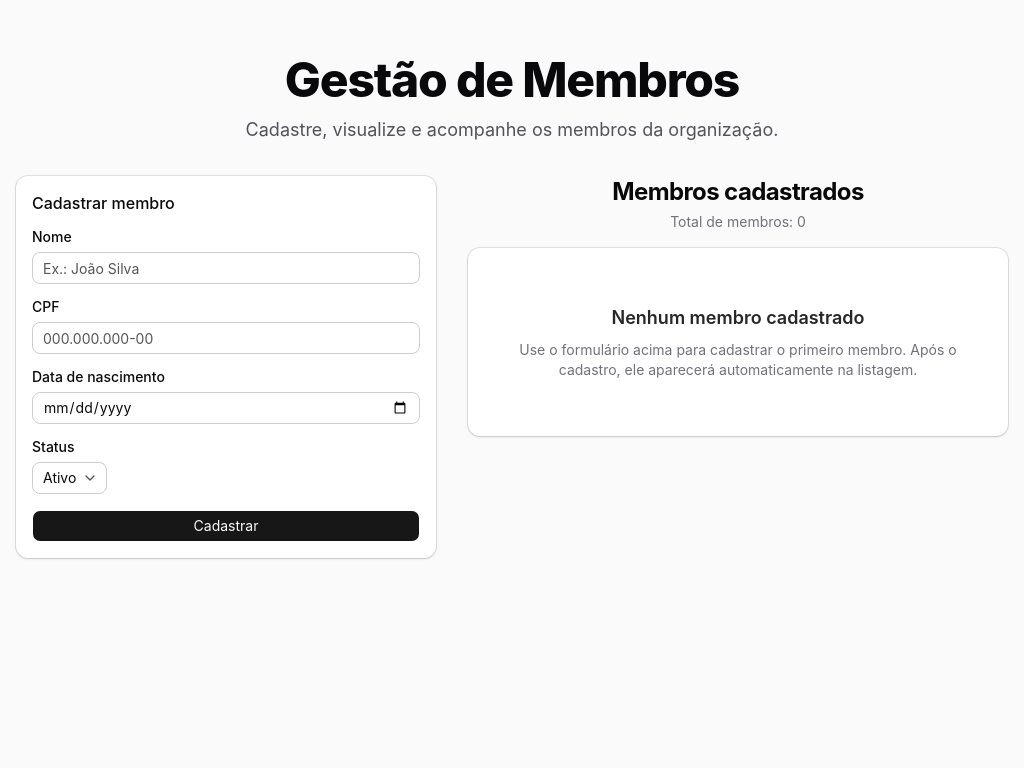
Test: MembersPage › should show API error when create member fails
Check: the heading "Nenhum membro cadastrado" is shown, box left=612, top=304, right=864, bottom=332
Type "João Silva" into the field labelled "Nome" at {"x": 226, "y": 268}, box left=32, top=252, right=420, bottom=284
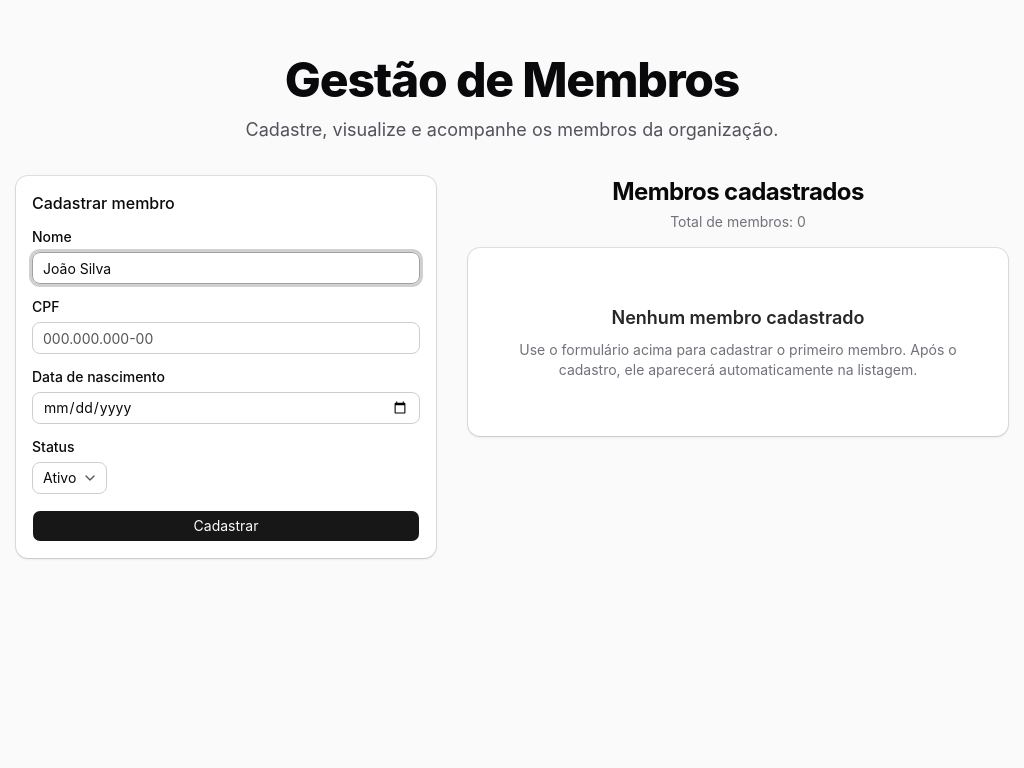
Type "52998224725" into the field labelled "CPF" at {"x": 226, "y": 338}, box left=32, top=322, right=420, bottom=354
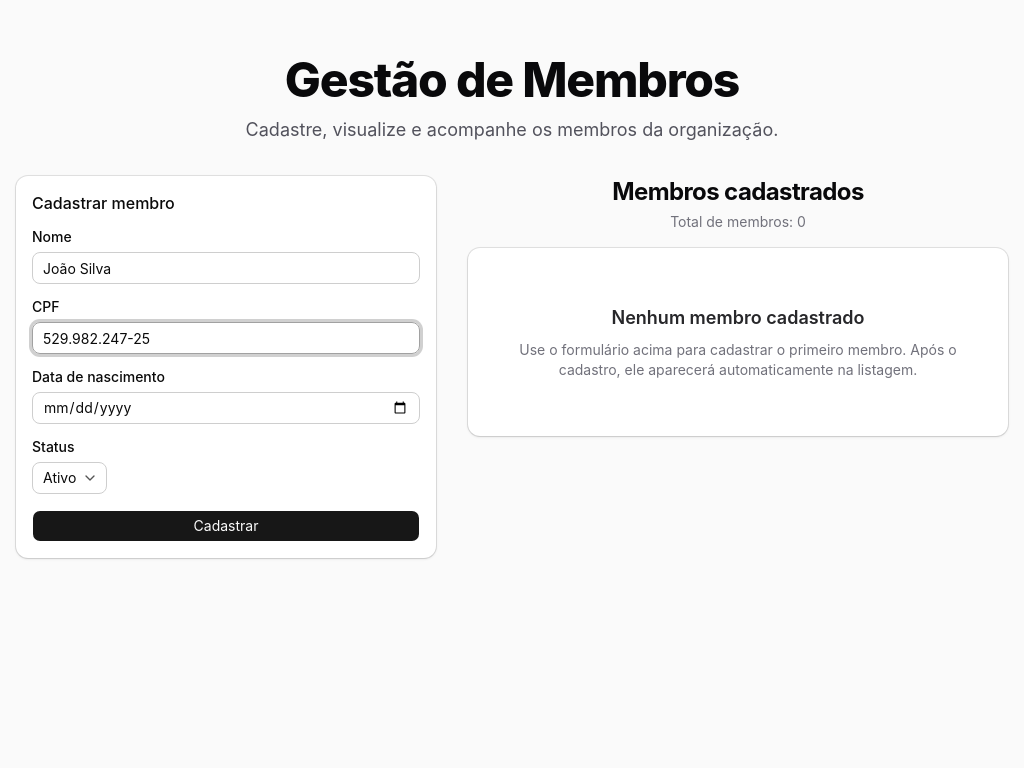
Type "2000-05-10" into the date field labelled "Data de nascimento" at {"x": 226, "y": 408}, box left=32, top=392, right=420, bottom=424
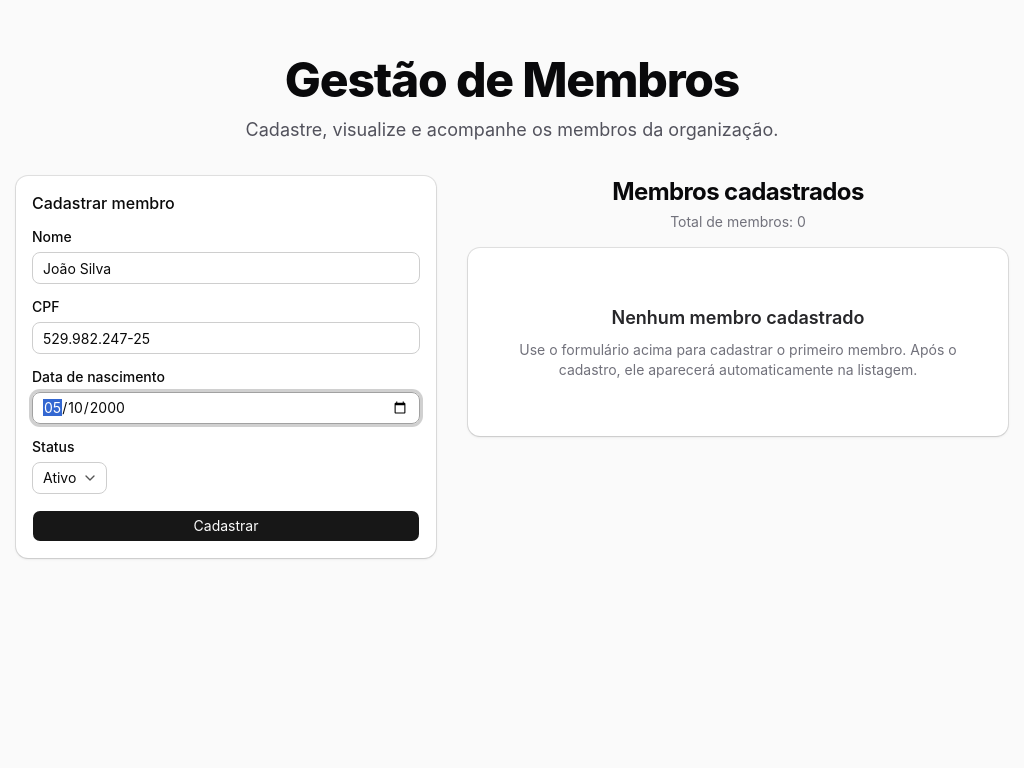
Click the button "Cadastrar" at {"x": 226, "y": 526}, box left=32, top=510, right=420, bottom=542
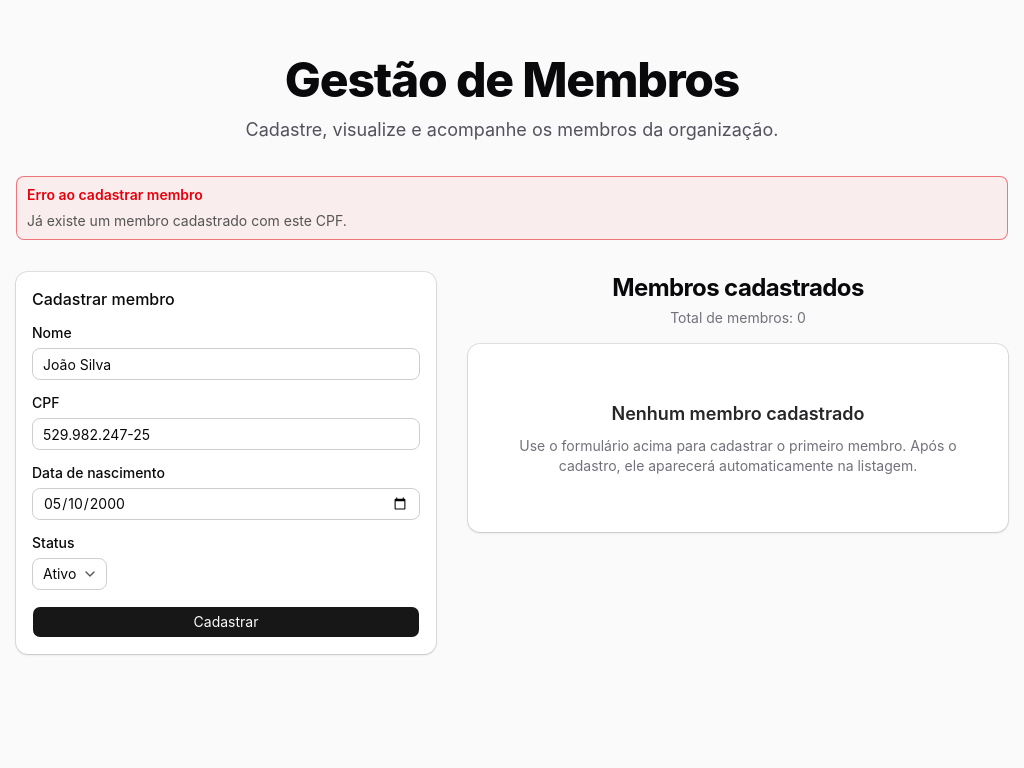
Check: the text "Já existe um membro cadastrado com este CPF." is shown, box left=27, top=212, right=347, bottom=229
